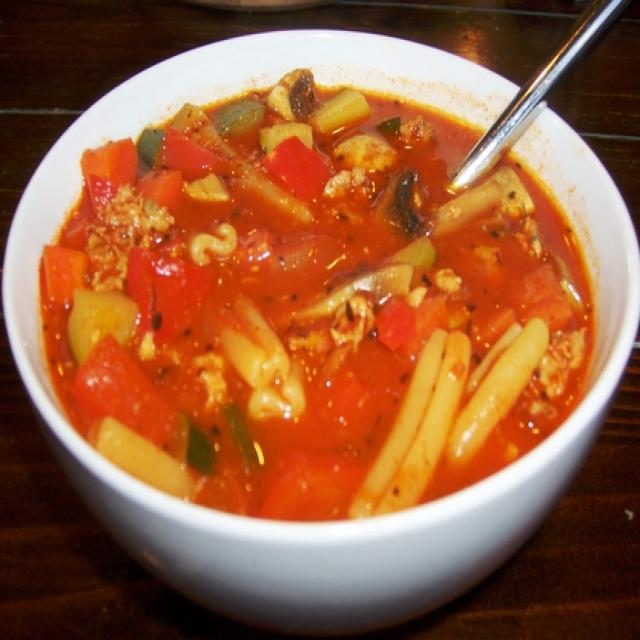汤锅炖物: (21, 21, 611, 581)
